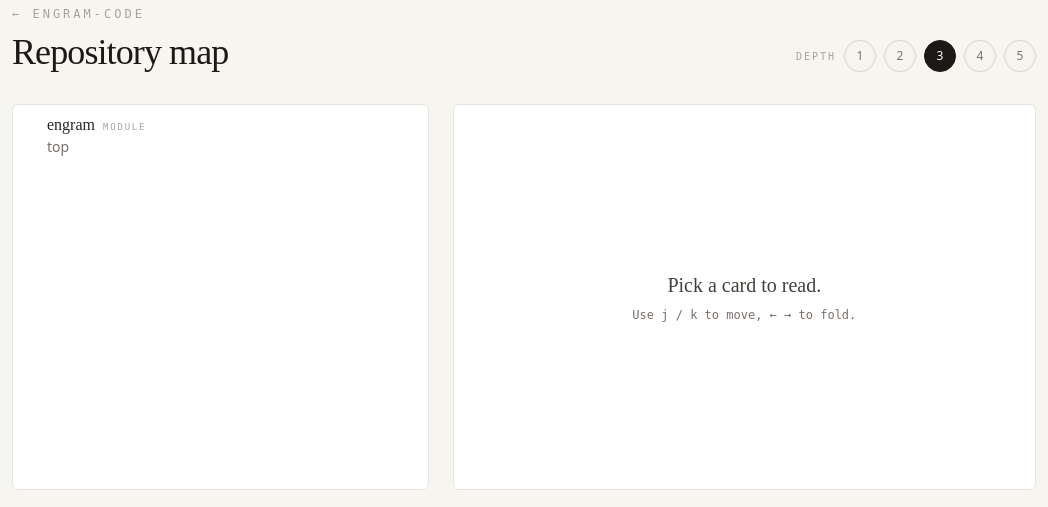
Scenario: MapView selection + detail › clicking a row selects it and loads its card into the detail pane
Click the button with test id "map-row-select": (71,124) x1=47 y1=113 x2=416 y2=157
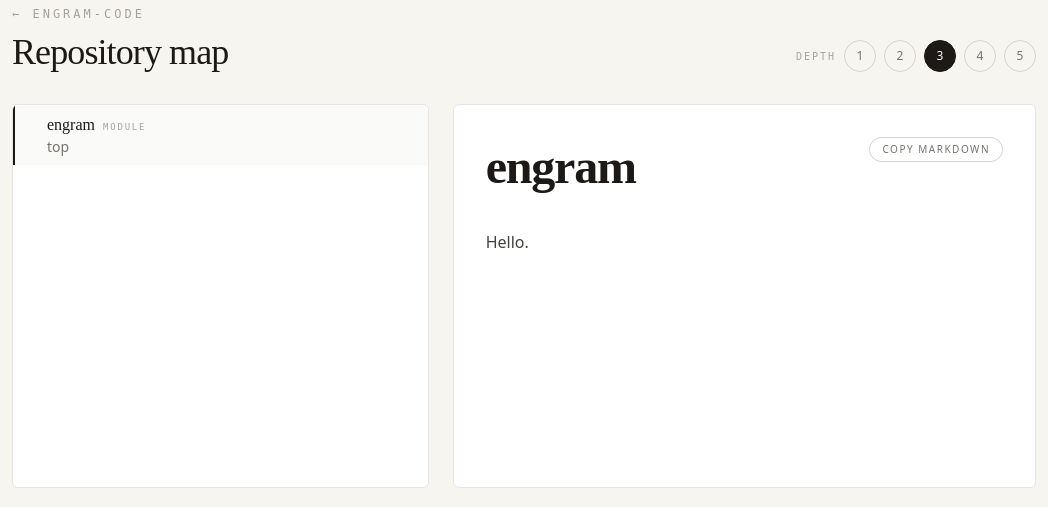
Now the element with test id "card-view" is shown, box x1=486 y1=137 x2=1003 y2=255
Now the element with test id "map-detail-empty" is gone
